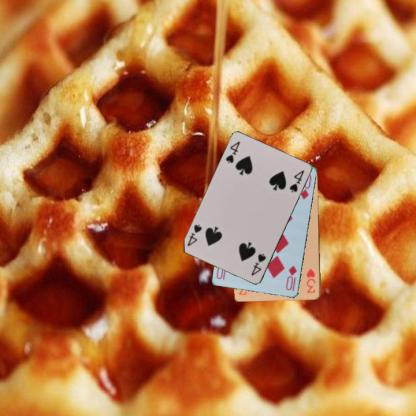10d: (283, 263, 298, 292)
3h: (304, 266, 317, 294)
4s: (249, 252, 268, 278), (223, 138, 242, 164)
